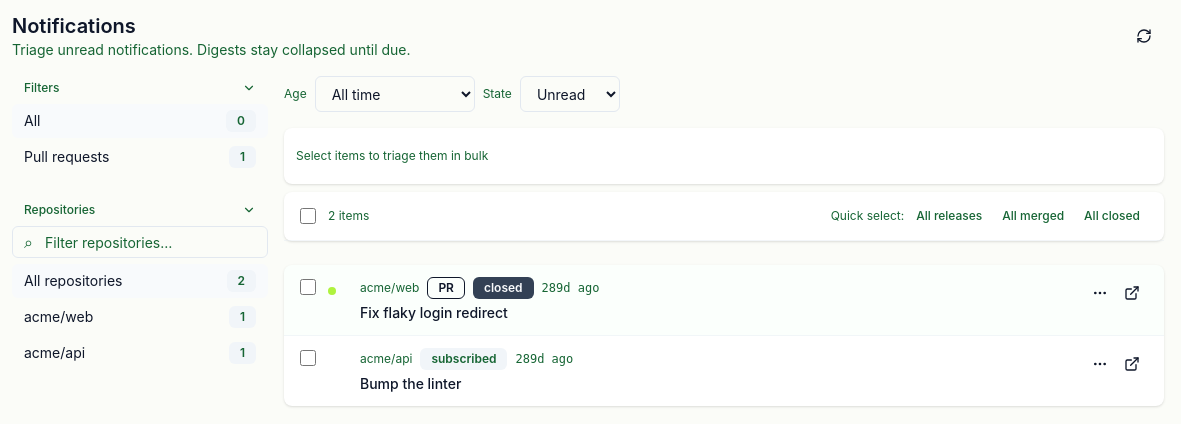
Scenario: inbox screen › the sidebar repository search box narrows the repo list on the live page
Check: the text "Fix flaky login redirect" is shown, box [360,304,508,321]
Type "web" into the search field labelled "Filter repositories".
click(140, 242); type("web")  # box [12,226,268,258]
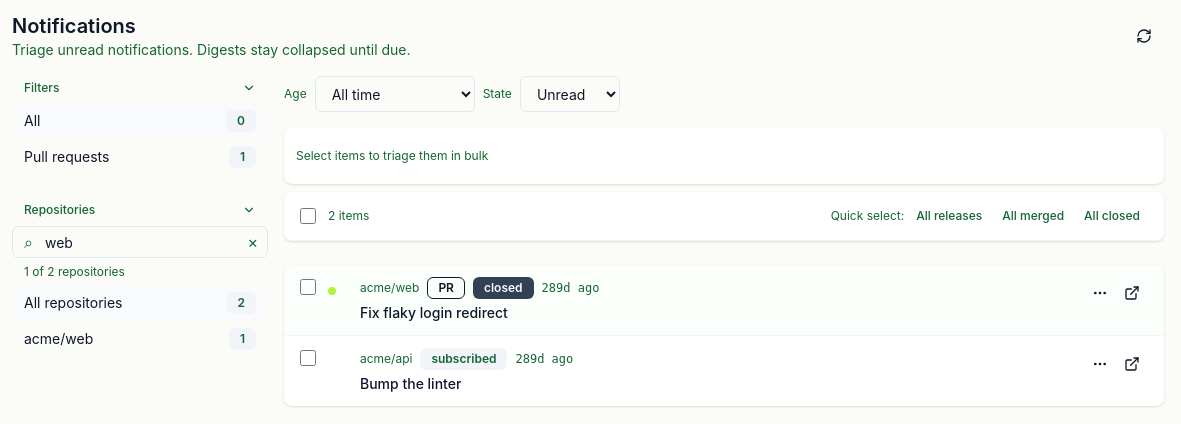
Check: the button with aria-label "Filter by acme/web" is shown, box [12,322,268,356]
Check: the text "Filter by acme/api" is gone
